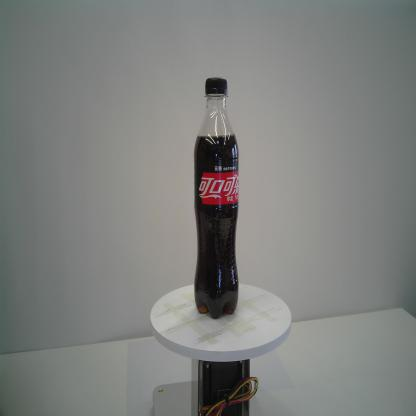Drink: (191, 76, 242, 322)
